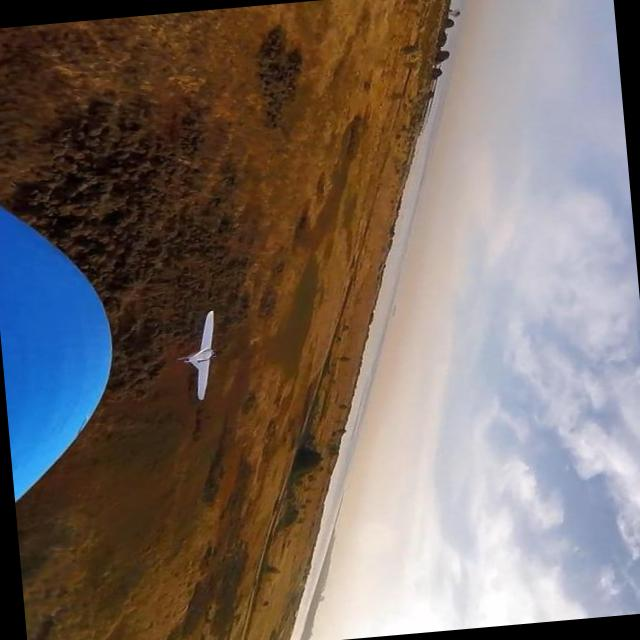UAV: (156, 296, 246, 438)
